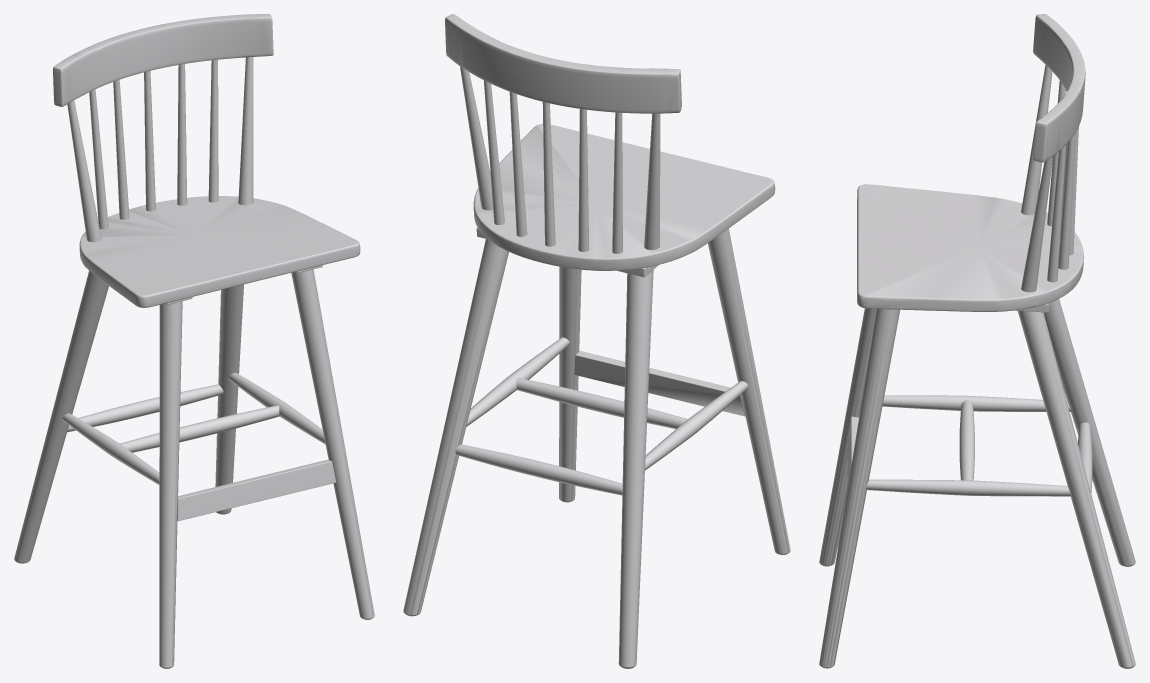
File: abo-b084t7p7hw.7af0541bad.ar.glb
3 views of the same model, side by side, from view 1: azimuth 30°, elevation 25°; view 2: azimuth 150°, elevation 25°; view 3: azimuth 270°, elevation 25° (orthographic). The views are drawn at different scales.
Visible parts, largest first — view 1: RootNode; view 2: RootNode; view 3: RootNode.
Boxes of the visible parts, x1,y1,x2,y2 form: RootNode: (14, 14, 374, 668); RootNode: (403, 14, 790, 668); RootNode: (819, 14, 1135, 668).
Size of the model in its own units: 0.4826 by 1.09 by 0.5715.
1 material, 1 textured.
